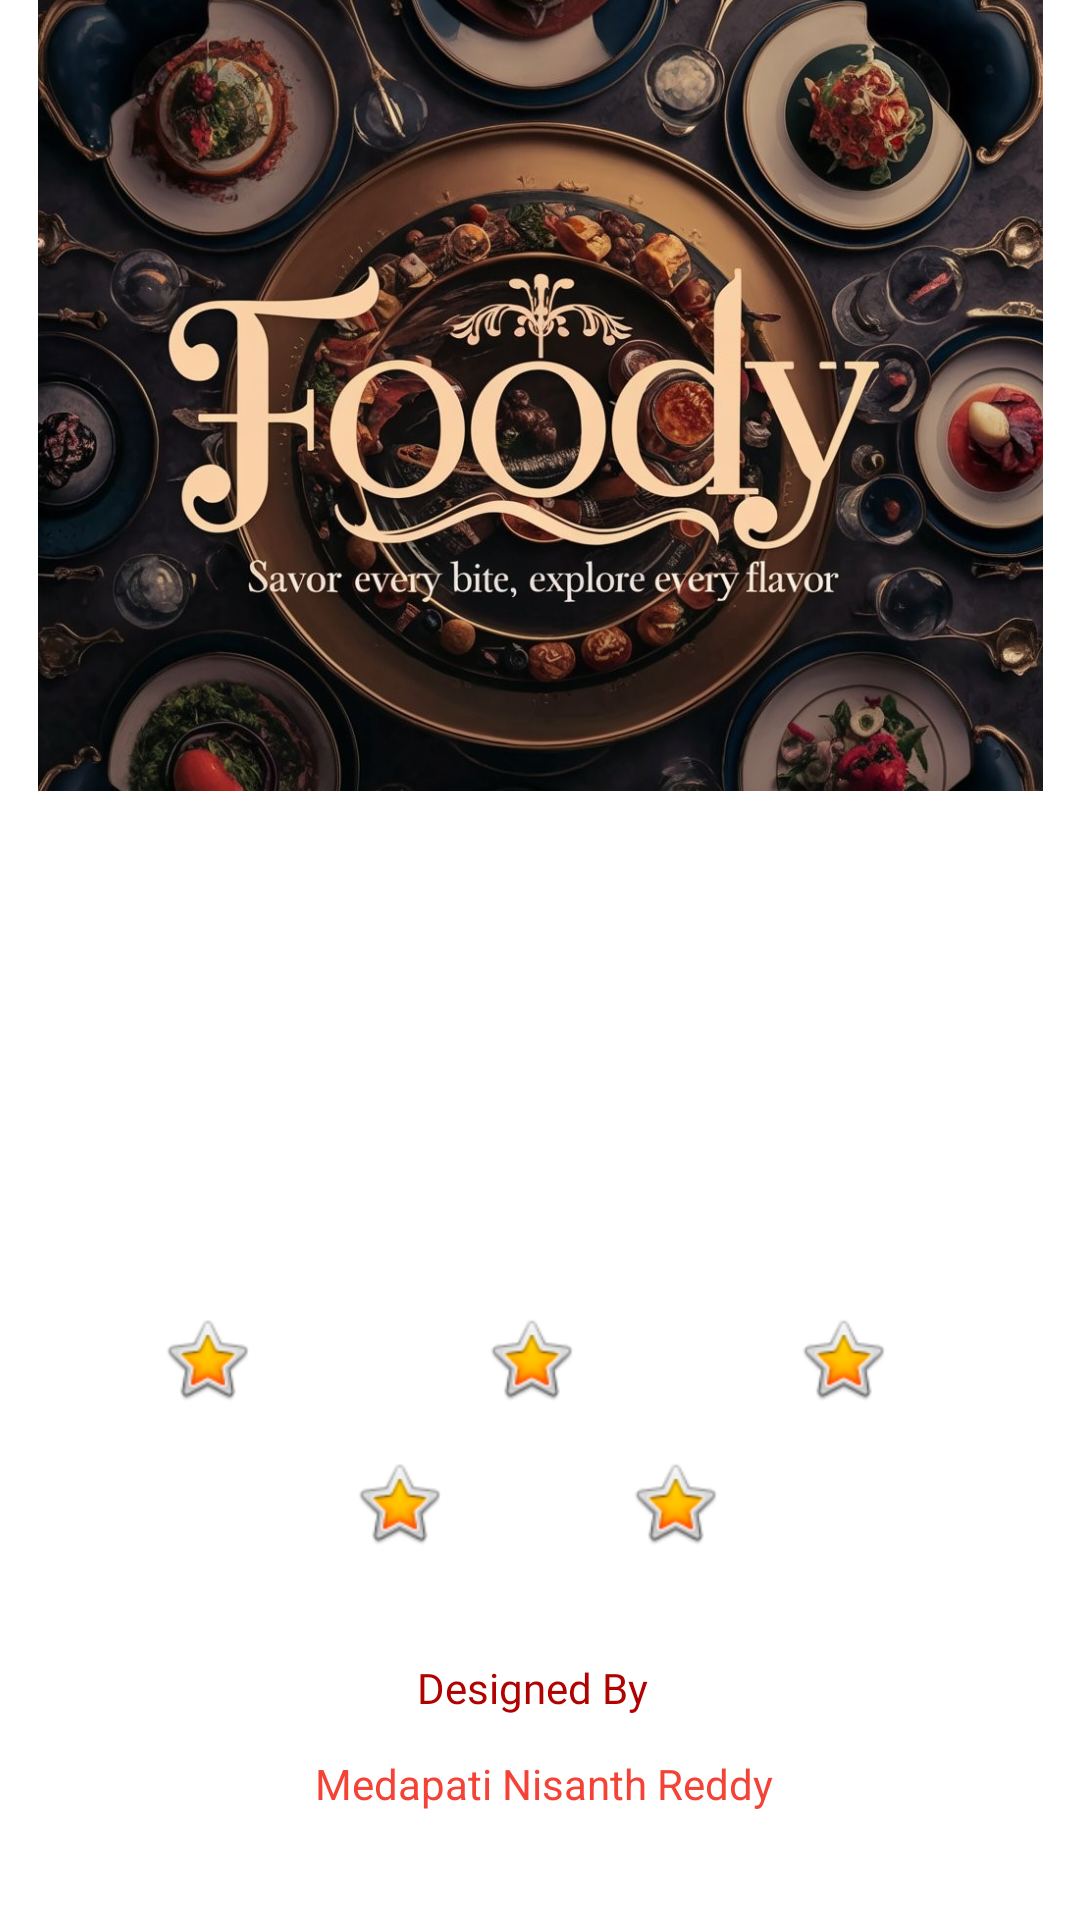

Locate icon controls on the screen. Image size 1080px×1920px, boxes as (x1, y1, x2, y2).
star on: (168, 1321, 248, 1399), (492, 1321, 572, 1399), (804, 1321, 884, 1399), (360, 1465, 440, 1543), (636, 1465, 716, 1543)
